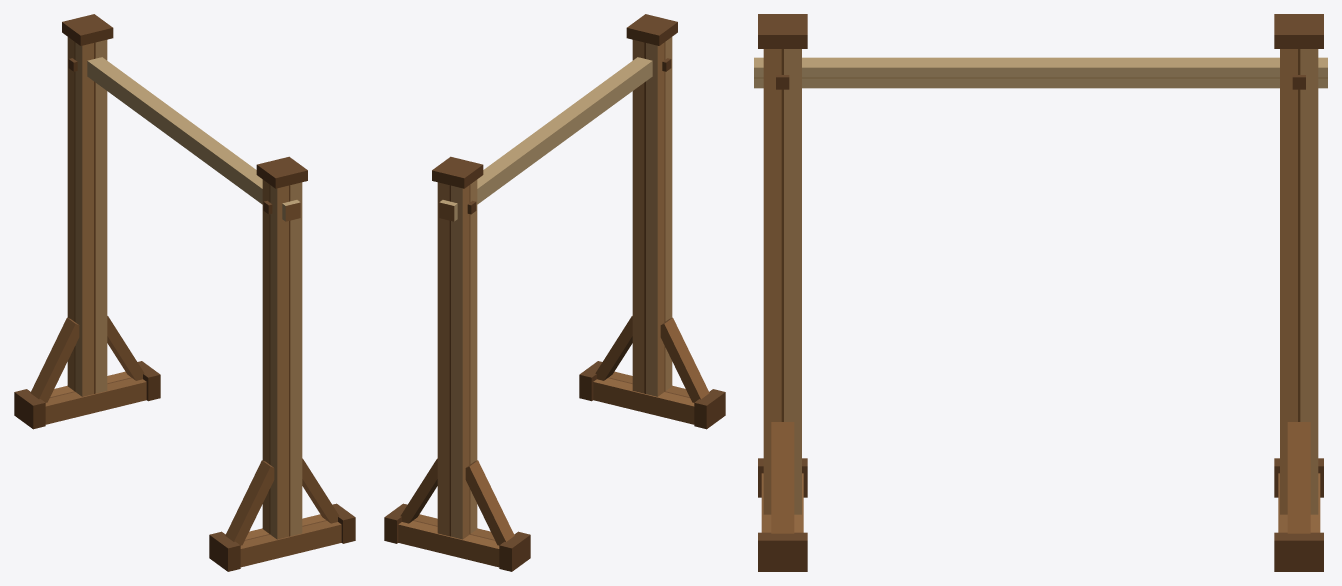
The model's file is bar_wood.glb.
3 renders of one model, left to right at view 1: azimuth 30°, elevation 25°; view 2: azimuth 150°, elevation 25°; view 3: azimuth 270°, elevation 25°, orthographic. The views are drawn at different scales.
Visible parts, largest first — view 1: bar_wood; view 2: bar_wood; view 3: bar_wood.
Part boxes in pixels (x1=…): bar_wood: x1=14, y1=14, x2=355, y2=571; bar_wood: x1=384, y1=14, x2=725, y2=571; bar_wood: x1=754, y1=14, x2=1327, y2=571.
Size of the model in its own units: 1.02 by 2.92 by 3.
